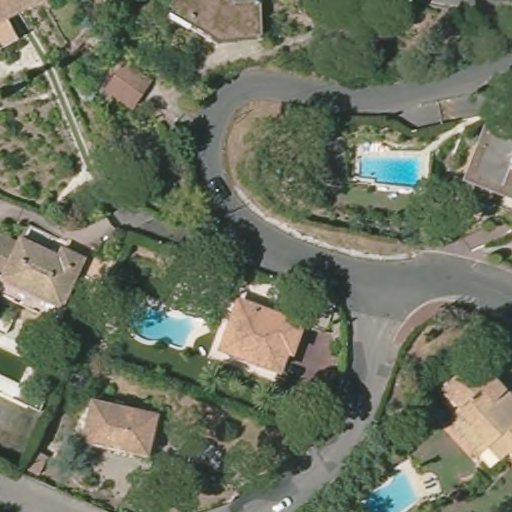pool: (356, 147, 428, 187), (131, 303, 194, 348), (356, 471, 417, 509)
